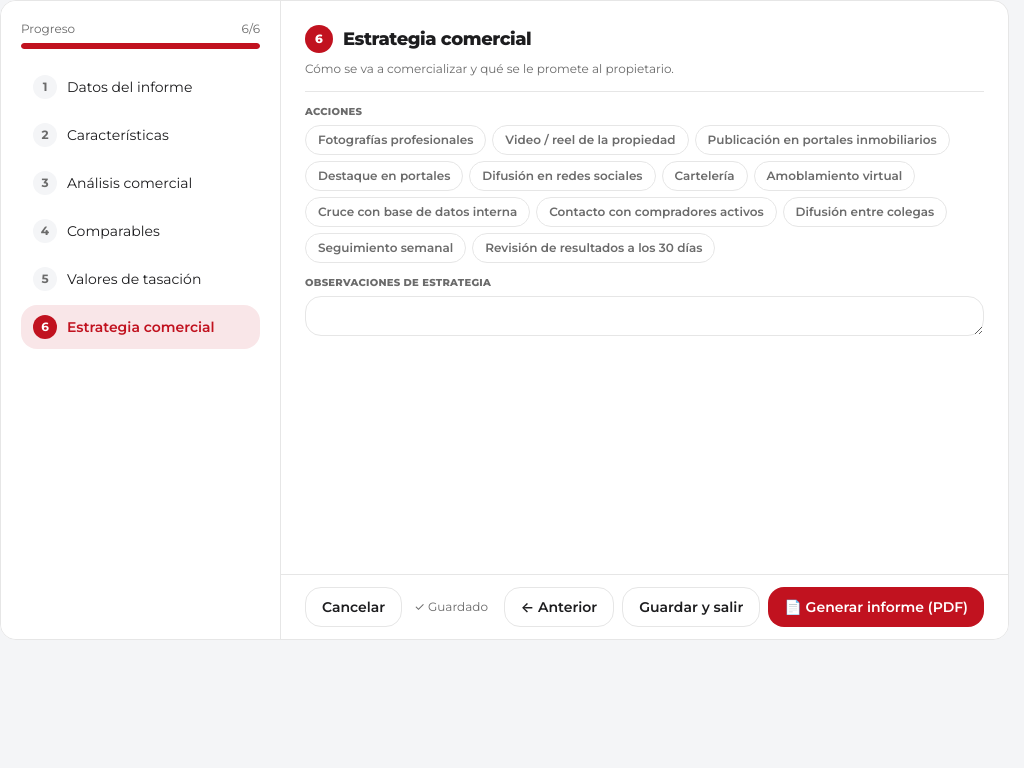
Test case: TasacionWizard — un guardado a la vez › «Guardar y salir» y «Generar informe» quedan deshabilitados mientras guarda
The width and height of the screenshot is (1024, 768).
Click the button "Guardar y salir": coordinates (691, 607) 622,587 -> 760,627
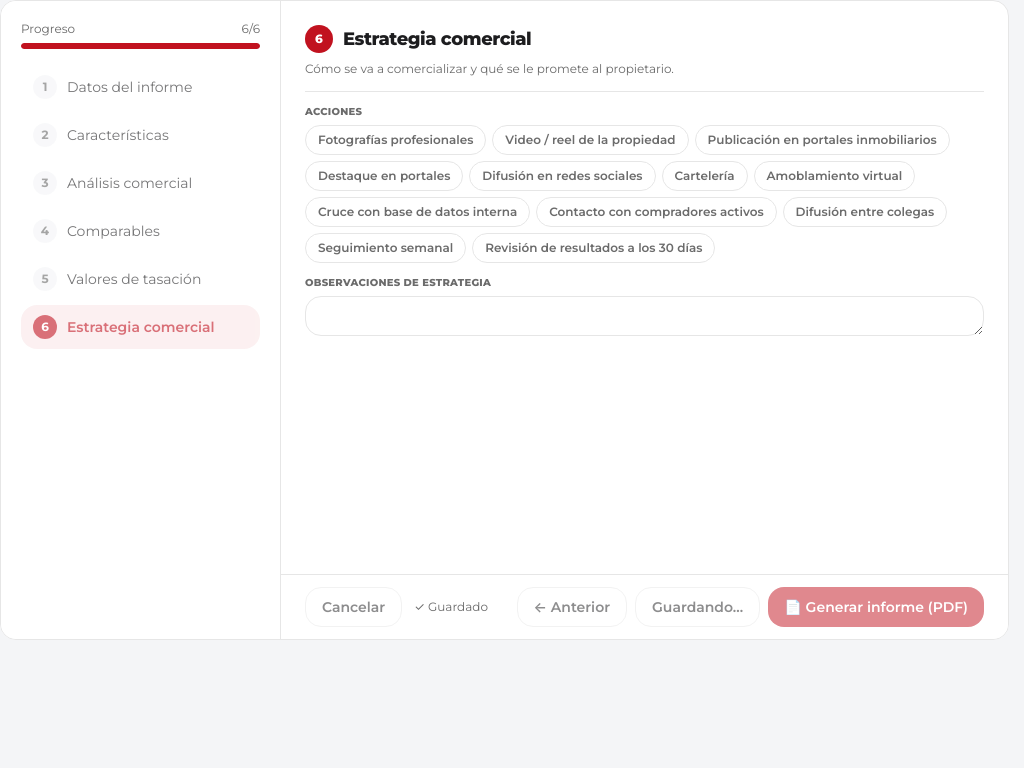
Expected: the button "📄 Generar informe (PDF)" is disabled, 768,587 -> 984,627
Expected: the button "Guardando…" is disabled, 635,587 -> 760,627
